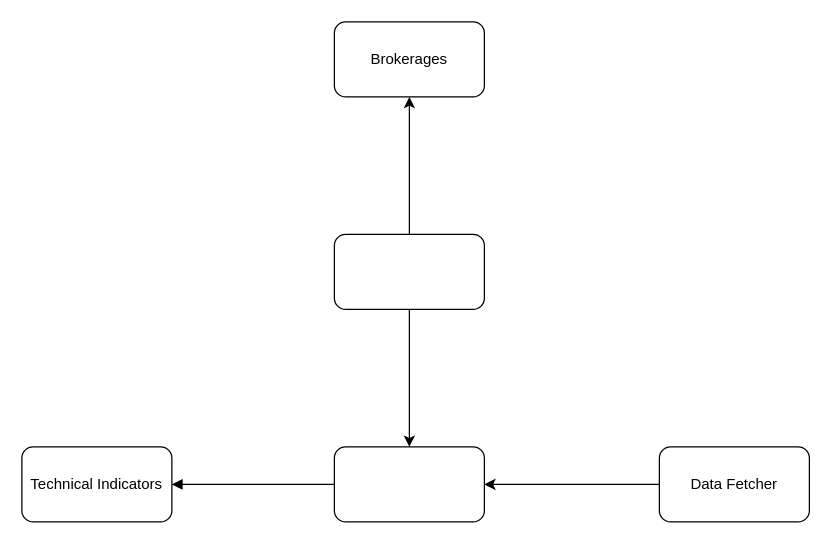
This 831x544 diagram has some shape labels left out. The shapes that lost their labels are listed below. From the top down, each one's box as (x1, y1, x2, y2) in pixels, then its label:
(333, 233, 484, 309): TradingSystem
(333, 446, 484, 522): Trading Strategies
